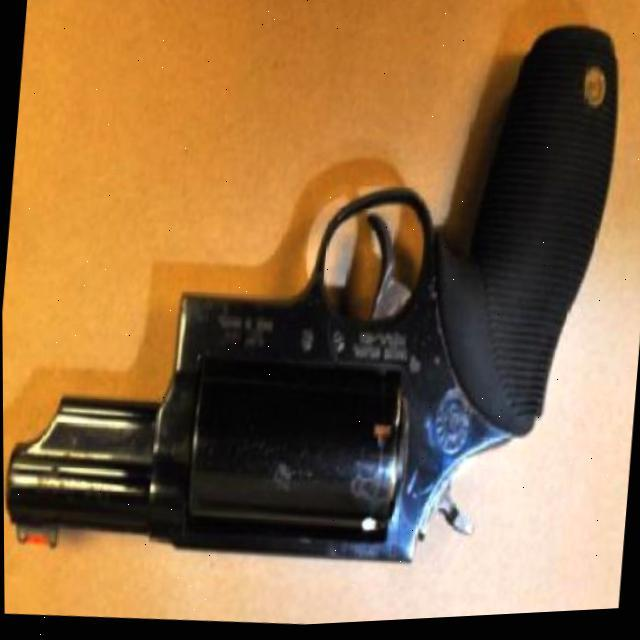gun: (0, 0, 621, 620)
